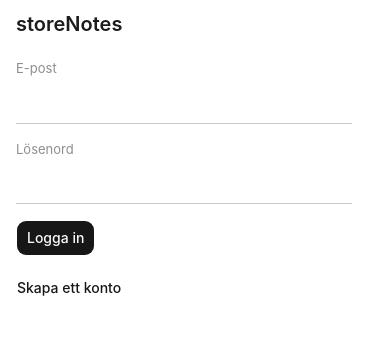
Test: signing in › asks for the password when it is missing
The width and height of the screenshot is (369, 350).
Type "anna@example.com" into the field labelled "E-post" at [184, 103], box [16,82,352,124]
Then press Enter
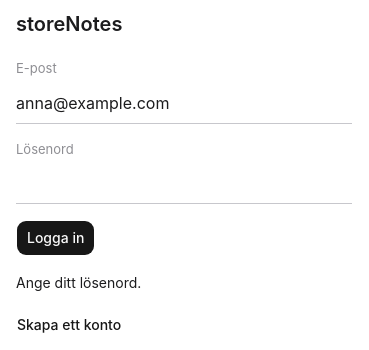
Expected: the message reads "Ange ditt lösenord.", [16,274,141,291]
